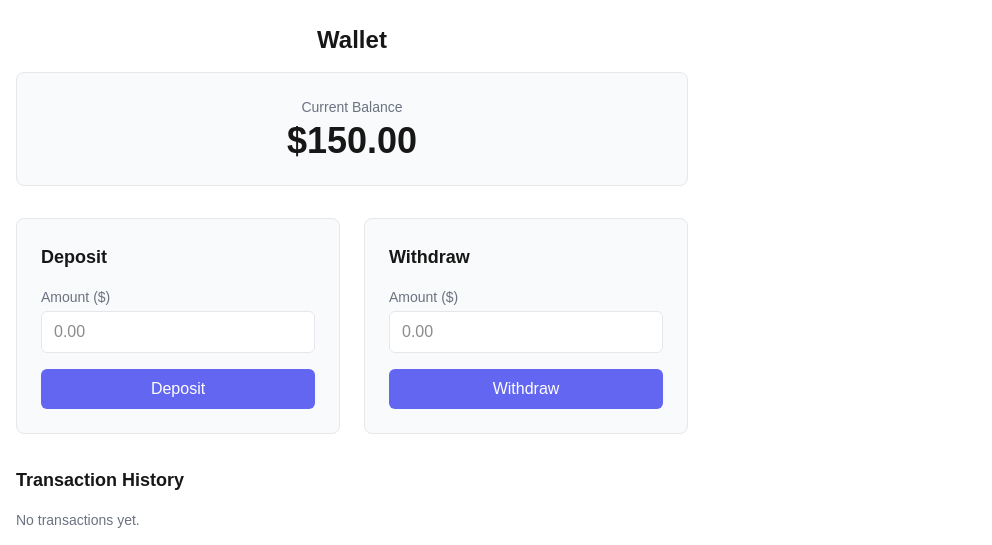
Scenario: WalletPage › submits deposit and shows success toast
Type "50" into the 1st number field labelled "Amount ($)". click: (178,332)
box: 41,311 -> 315,353
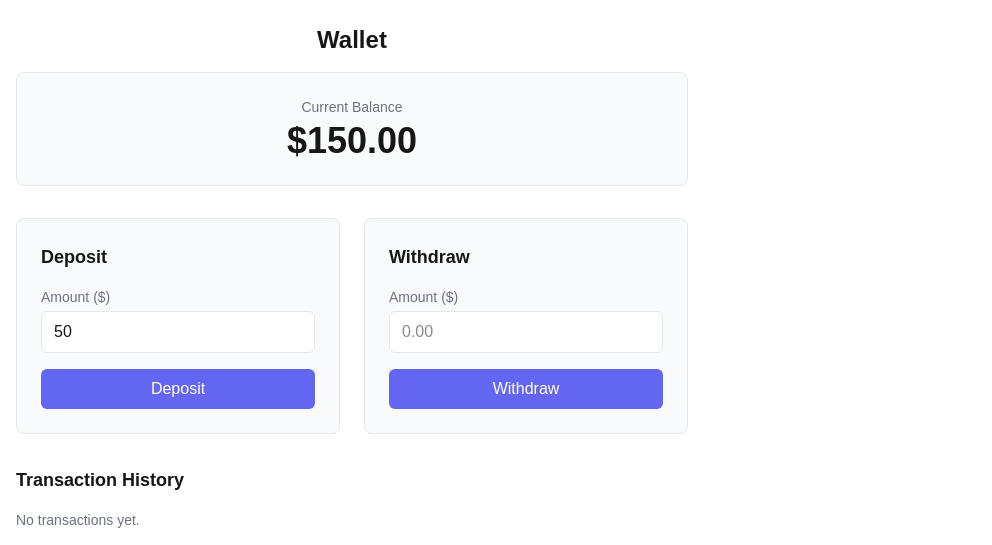
Click the button "Deposit". click: (178,389)
box: 41,369 -> 315,409
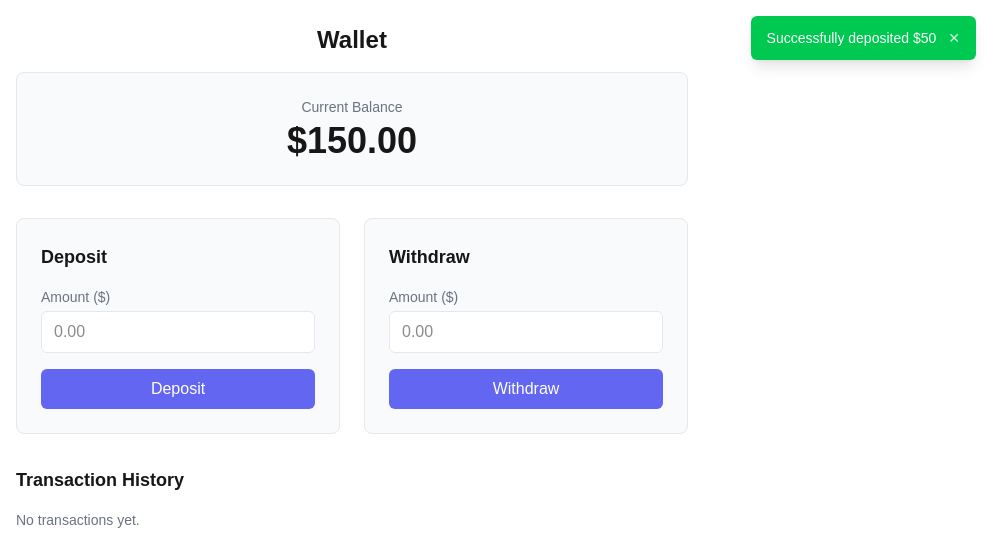
Now the text "Successfully deposited $50" is shown, box 767,28 -> 936,48
